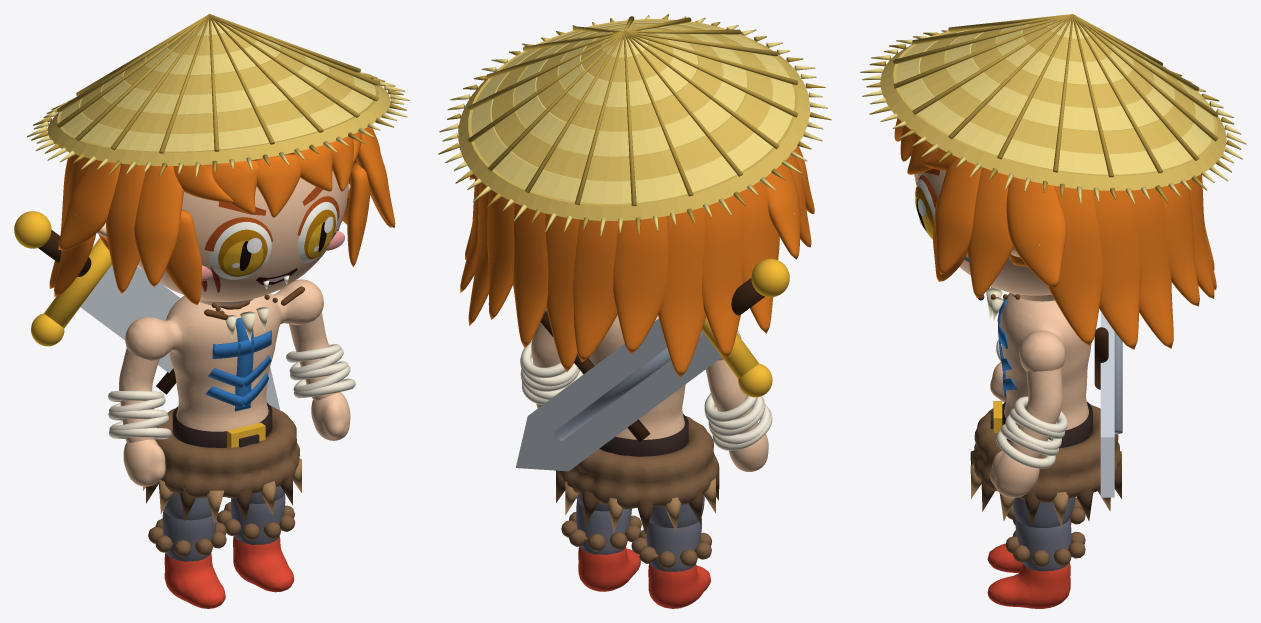
The model's file is iop-berserker-c.glb.
The picture shows the model from 3 angles, left to right: view 1: azimuth 30°, elevation 25°; view 2: azimuth 150°, elevation 25°; view 3: azimuth 270°, elevation 25°; orthographic projection. The views are drawn at different scales.
Visible parts, largest first — view 1: meches, tunique, crane, pagne, cone, cone_bord, cone.001, cone.002, lame, cone.003, botte, botte.001 (+40 smaller); view 2: meches, lame, cone, cone.001, cone_bord, cone.002, pagne, cone.003, cone.004, tunique, cone.005, botte (+33 smaller); view 3: meches, cone, cone.001, tunique, cone_bord, cone.002, pagne, cone.003, cone.004, botte.001, lame, bras.001 (+26 smaller).
Part boxes in pixels (x1,y1,x2,y2): meches: (49, 127, 395, 305); tunique: (125, 279, 323, 431); crane: (138, 170, 348, 301); pagne: (155, 406, 299, 498); cone: (60, 66, 375, 151); cone_bord: (47, 72, 390, 165); cone.001: (80, 66, 353, 133); cone.002: (102, 56, 329, 114); lame: (80, 264, 280, 410); cone.003: (123, 45, 305, 94); botte: (164, 552, 225, 608); botte.001: (233, 536, 294, 592); meches: (460, 146, 814, 377); lame: (515, 318, 721, 471); cone: (471, 21, 794, 203); cone.001: (491, 22, 772, 181); cone_bord: (458, 19, 809, 220); cone.002: (514, 24, 747, 156); pagne: (558, 416, 718, 509); cone.003: (536, 26, 722, 131); cone.004: (558, 28, 697, 106); tunique: (544, 308, 741, 439); cone.005: (581, 30, 672, 82); botte: (648, 563, 710, 608); meches: (894, 118, 1216, 349); cone: (896, 29, 1214, 174); cone.001: (919, 26, 1195, 153); tunique: (1000, 292, 1091, 430); cone_bord: (880, 31, 1226, 190); cone.002: (945, 25, 1174, 130); pagne: (972, 404, 1121, 502); cone.003: (971, 28, 1154, 107); cone.004: (996, 24, 1133, 84); botte.001: (987, 562, 1070, 608); lame: (1100, 311, 1114, 497); bras.001: (1010, 367, 1062, 458).
Bounding box in the file's own units: 2 × 3.15 × 1.92.
